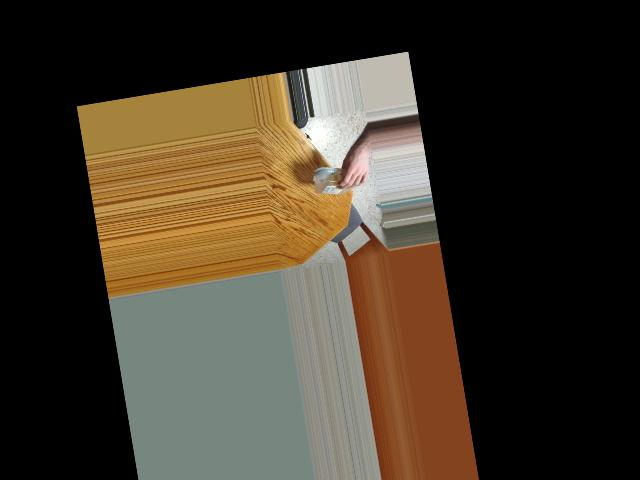cheese: (318, 158, 361, 197)
